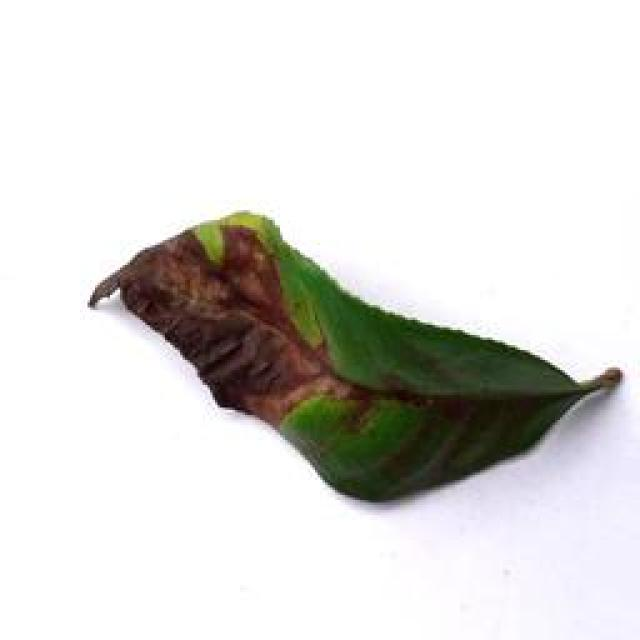Brown Blight: (89, 208, 621, 502)
